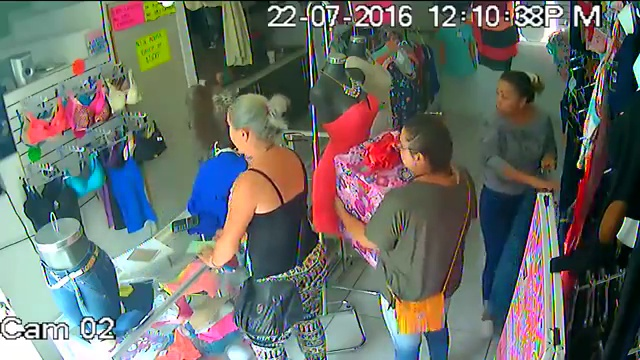face: (397, 128, 423, 171), (494, 84, 521, 118)
